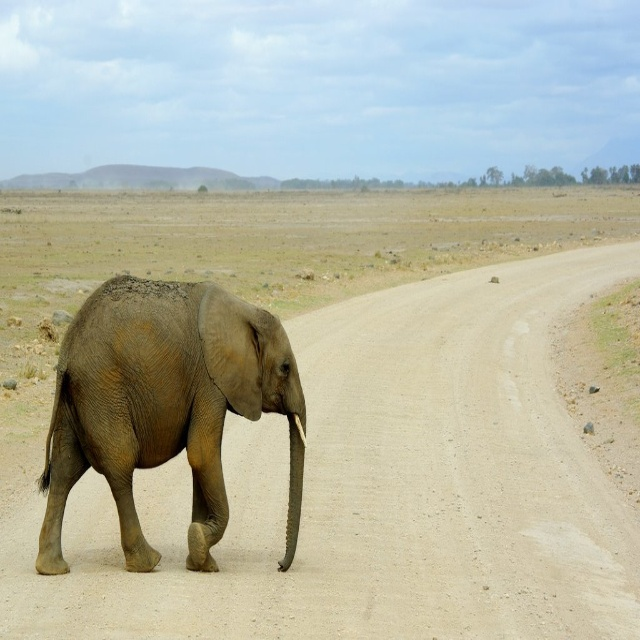Elephant: (32, 275, 312, 590)
